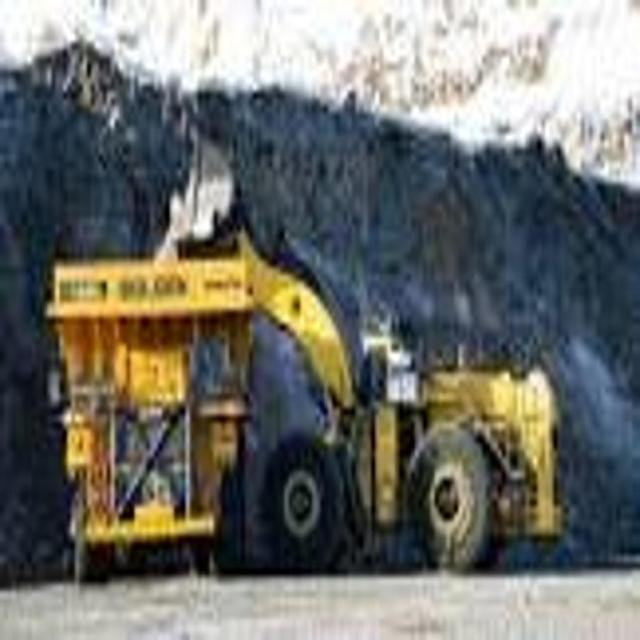dump_truck: (38, 236, 258, 580)
